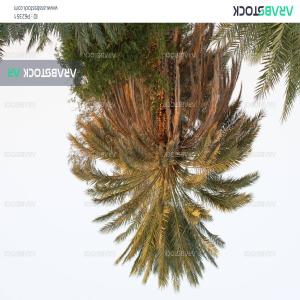palm tree: (63, 22, 268, 294)
